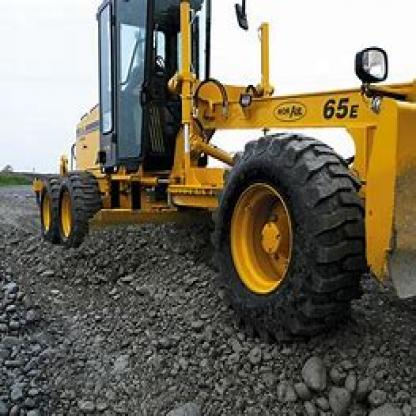bull_dozer/loader/grader: (16, 2, 411, 349)
